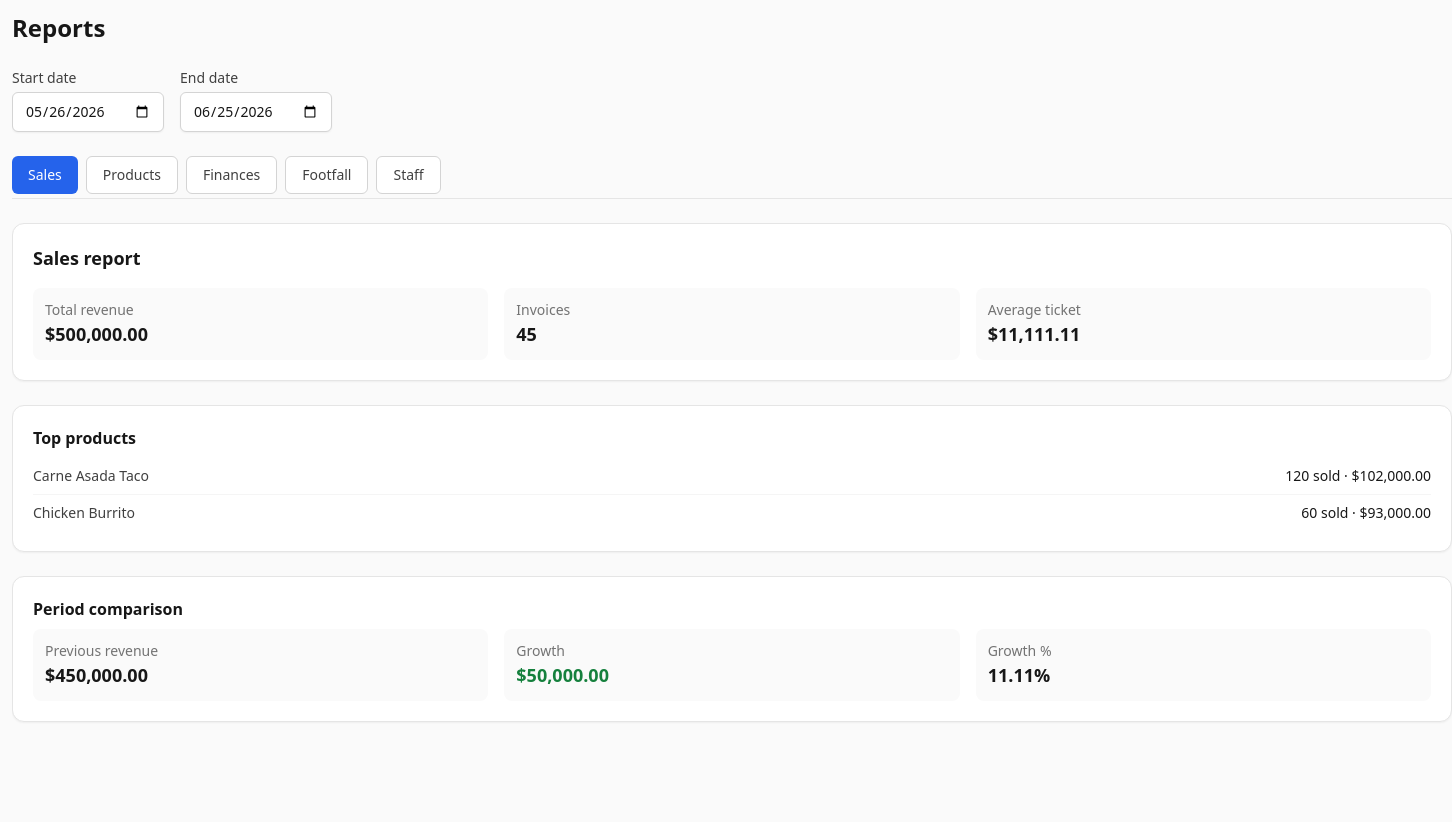
Test: ReportsPage › loads sales, product and financial reports for the default range
Expected: the heading "Sales report" is shown, [33,246,140,270]
Click the button "Products".
click(132, 175)  # box [86,156,178,194]
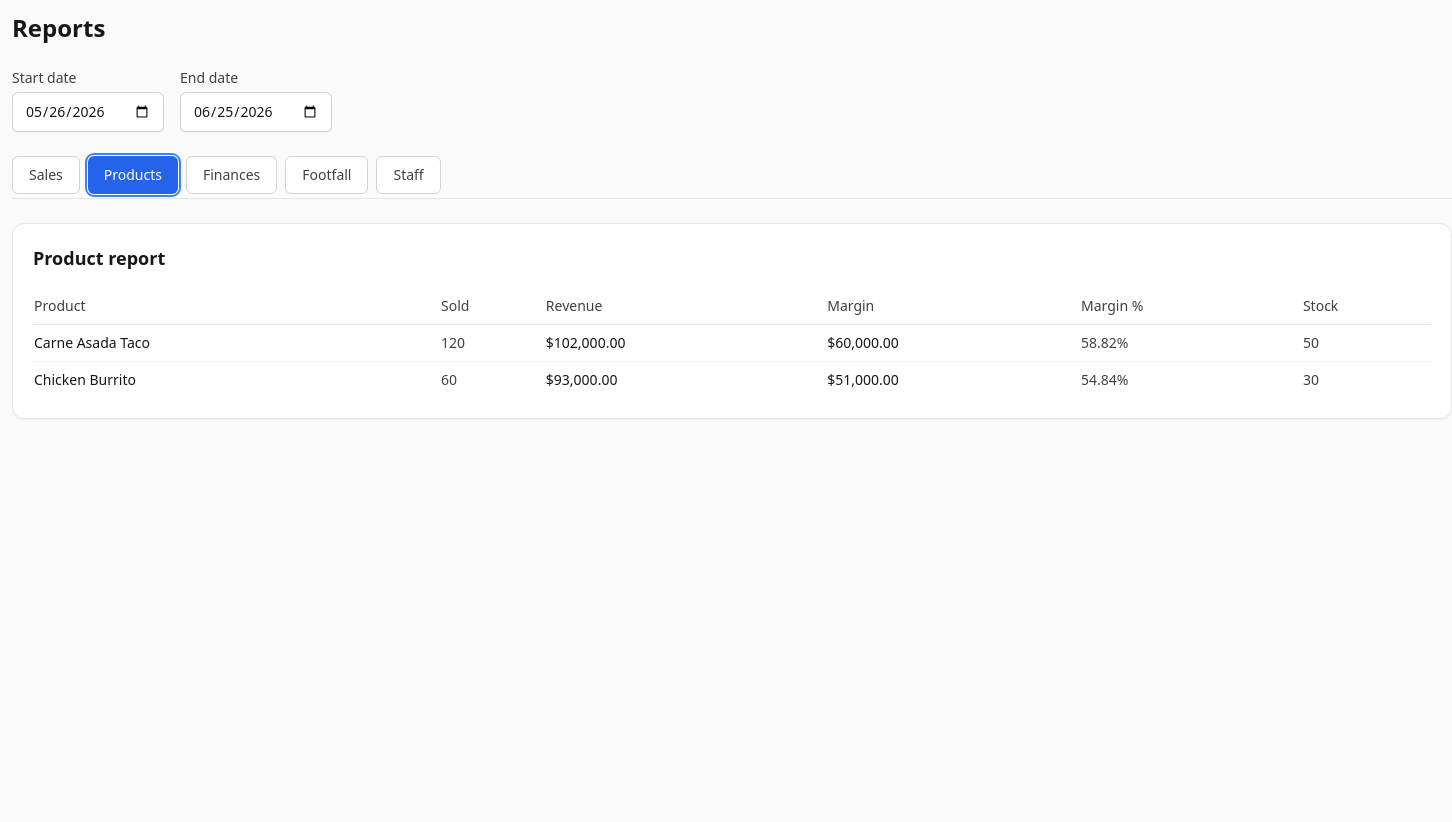
Expected: the text "Carne Asada Taco" is shown, [33,324,440,362]
Now the heading "Product report" is shown, box [33,246,165,270]
Click the button "Finances".
click(232, 175)  # box [186,156,277,194]
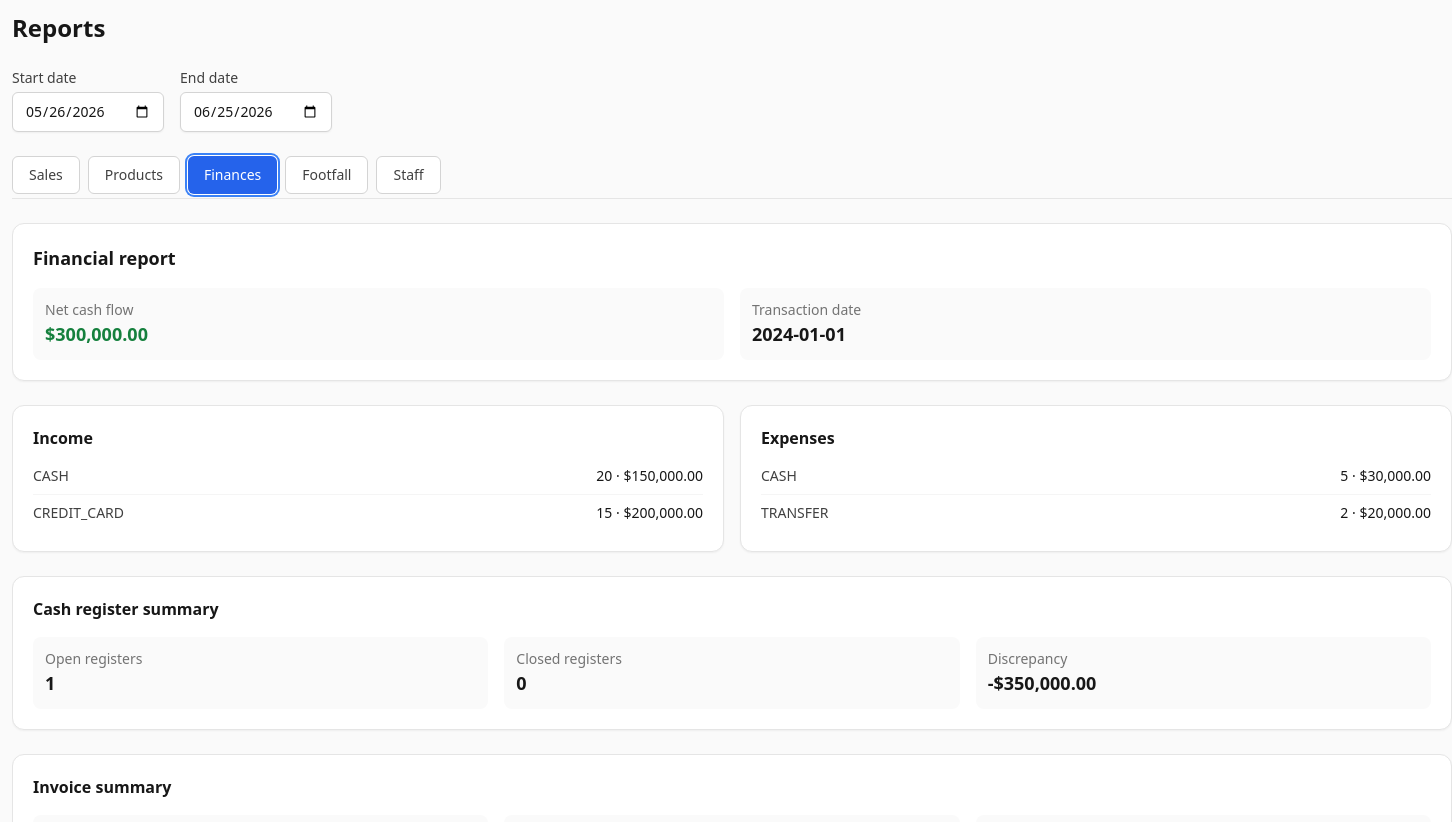
Now the heading "Financial report" is shown, box [33,246,176,270]
